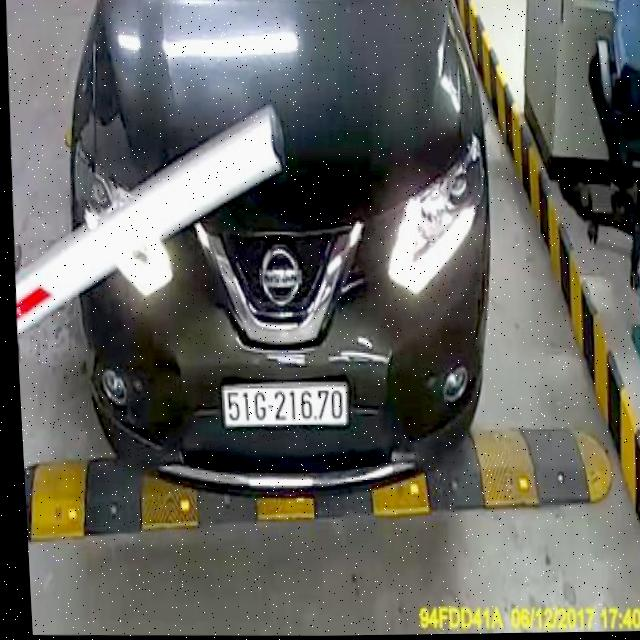car: (49, 0, 512, 504)
plate: (214, 378, 360, 438)
